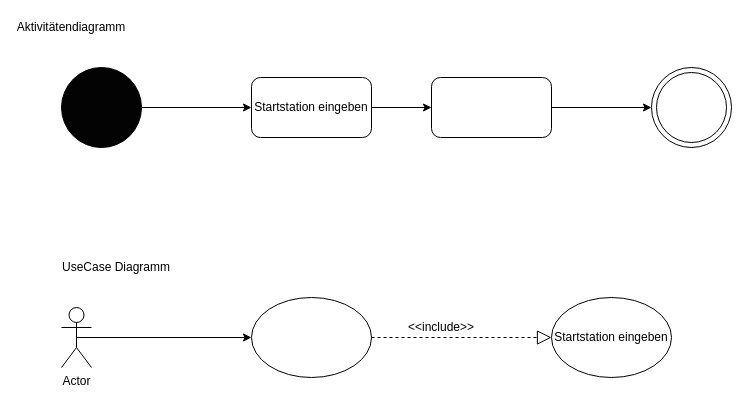
This 749x405 diagram has some shape labels left out. The shapes that lost their labels are listed below. From the top down, each one's centre as x and y in pixels, then its label:
(x=491, y=107): Abfahrtstafel anzeigen
(x=311, y=337): Abfahrtstabelle öffnen
